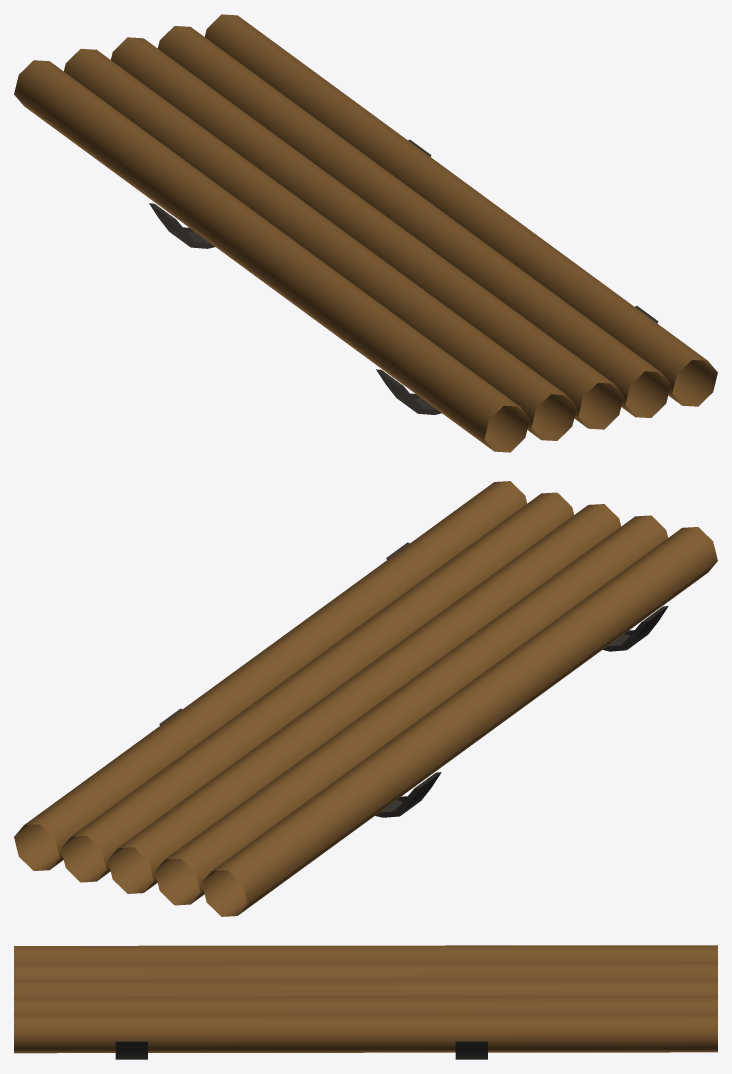
Rendered from Module_Ss_roof_Tubes2.FBX.
3 renders of one model, top to bottom at view 1: azimuth 30°, elevation 25°; view 2: azimuth 150°, elevation 25°; view 3: azimuth 270°, elevation 25°, orthographic. The views are drawn at different scales.
Visible parts, largest first — view 1: Module_Ss_roof_Tubes2; view 2: Module_Ss_roof_Tubes2; view 3: Module_Ss_roof_Tubes2.
Part boxes in pixels (x1,y1,x2,y2): Module_Ss_roof_Tubes2: (14,14,717,452); Module_Ss_roof_Tubes2: (14,481,717,916); Module_Ss_roof_Tubes2: (14,945,717,1059).
Size of the model in its own units: 25.23 by 5.54 by 78.74.
